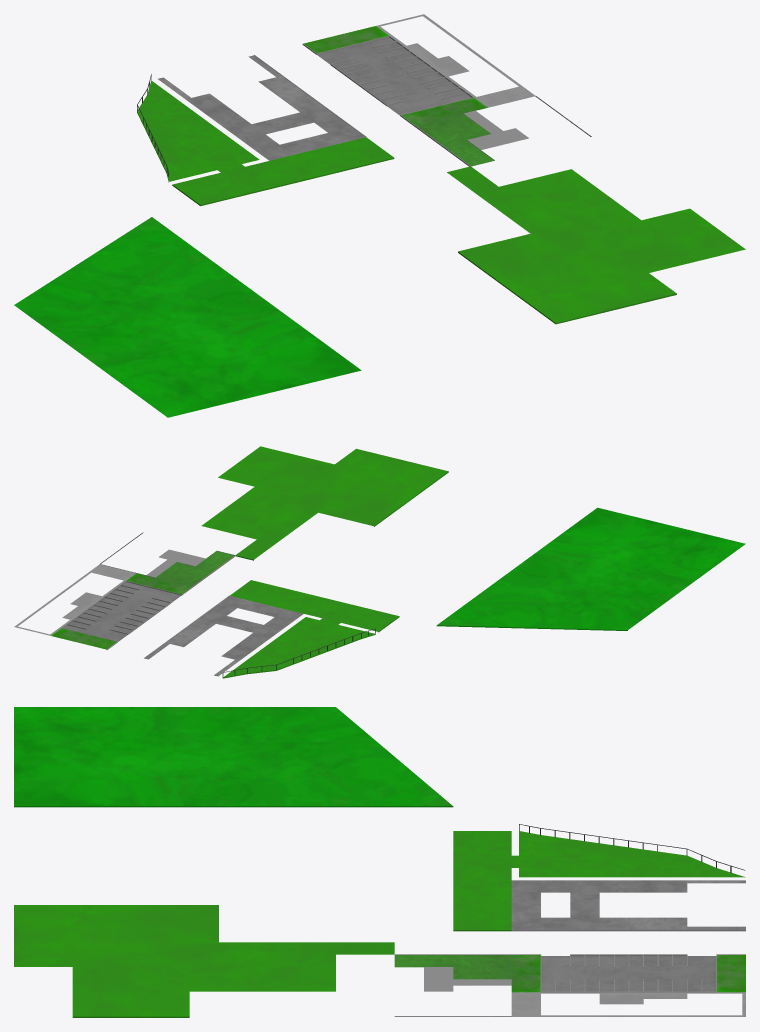
File: floors.gltf
3 views of the same model, one above another, from view 1: azimuth 30°, elevation 25°; view 2: azimuth 150°, elevation 25°; view 3: azimuth 270°, elevation 25° (orthographic). The views are drawn at different scales.
Visible parts, largest first — view 1: floor5, floor4, floor6, floor1, floor3, floor2; view 2: floor5, floor4, floor6, floor3, floor1, floor2; view 3: floor5, floor4, floor6, floor1, floor3, floor2.
Boxes of the visible parts, x1=… form: floor5: x1=14, y1=217, x2=361, y2=417; floor4: x1=447, y1=166, x2=745, y2=324; floor6: x1=302, y1=14, x2=591, y2=166; floor1: x1=158, y1=55, x2=366, y2=160; floor3: x1=137, y1=80, x2=259, y2=182; floor2: x1=172, y1=137, x2=394, y2=206; floor5: x1=436, y1=507, x2=745, y2=630; floor4: x1=201, y1=446, x2=448, y2=560; floor6: x1=14, y1=532, x2=235, y2=649; floor3: x1=222, y1=617, x2=375, y2=678; floor1: x1=144, y1=595, x2=303, y2=676; floor2: x1=230, y1=580, x2=399, y2=632; floor5: x1=14, y1=707, x2=453, y2=807; floor4: x1=14, y1=905, x2=394, y2=1017; floor6: x1=394, y1=954, x2=745, y2=1016; floor1: x1=511, y1=880, x2=745, y2=931; floor3: x1=511, y1=831, x2=745, y2=877; floor2: x1=453, y1=831, x2=511, y2=931.
Size of the model in its own units: 100 by 1.25 by 100.
6 materials, 6 textured.
